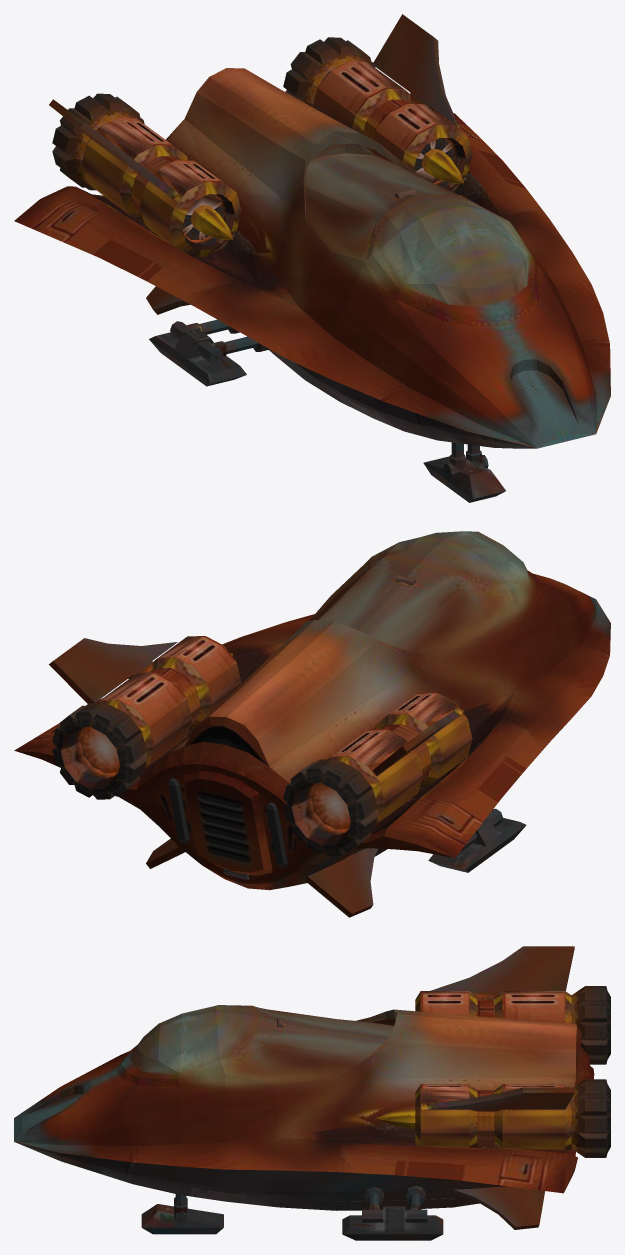
3 views of the same model, one above another, from view 1: azimuth 30°, elevation 25°; view 2: azimuth 150°, elevation 25°; view 3: azimuth 270°, elevation 25° (orthographic). The views are drawn at different scales.
Parts seen in each view (by area): view 1: Mesh_0; view 2: Mesh_0; view 3: Mesh_0.
Part boxes in pixels (x1,y1,x2,y2): Mesh_0: (14,14,610,502); Mesh_0: (14,531,610,917); Mesh_0: (14,946,610,1240).
Bounding box in the file's own units: 1.76 × 1 × 2.5.
Materials: 1 (1 with a texture image).
